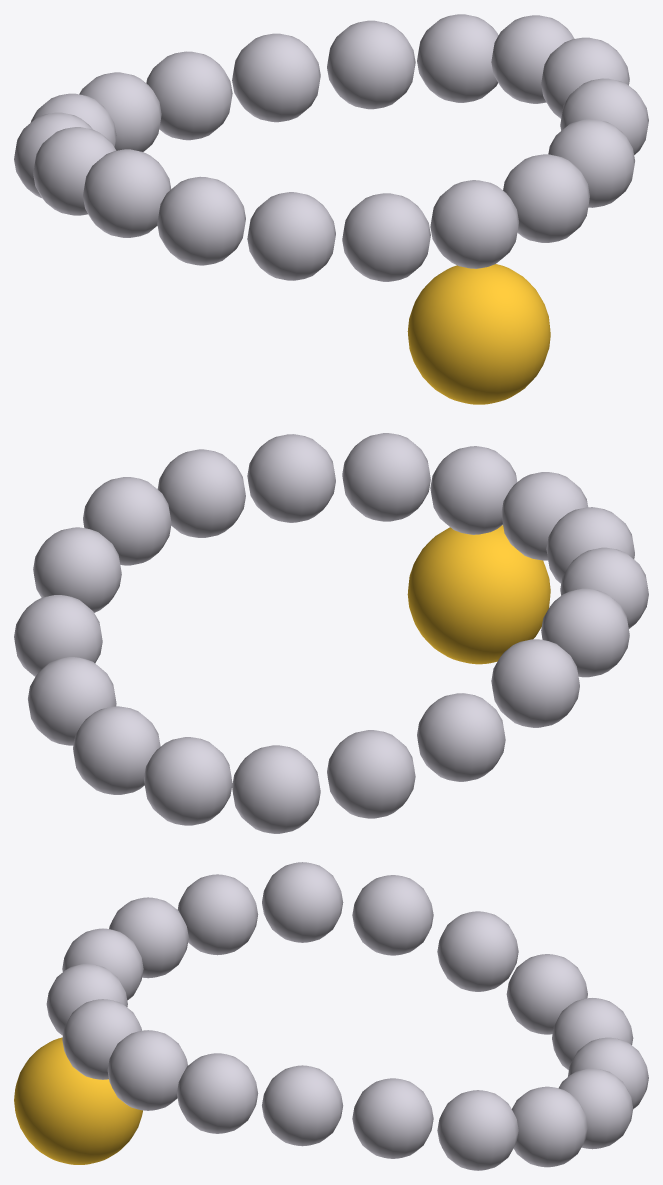
Rendered from pearl-necklace.glb.
The picture shows the model from 3 angles, top to bottom: view 1: azimuth 30°, elevation 25°; view 2: azimuth 150°, elevation 25°; view 3: azimuth 270°, elevation 25°; orthographic projection. The views are drawn at different scales.
Visible parts, largest first — view 1: pearl-necklace; view 2: pearl-necklace; view 3: pearl-necklace.
Boxes of the visible parts, x1=… form: pearl-necklace: x1=14, y1=14, x2=648, y2=404; pearl-necklace: x1=14, y1=433, x2=648, y2=833; pearl-necklace: x1=14, y1=862, x2=648, y2=1170.
Size of the model in its own units: 0.6909 by 0.26 by 0.78.
